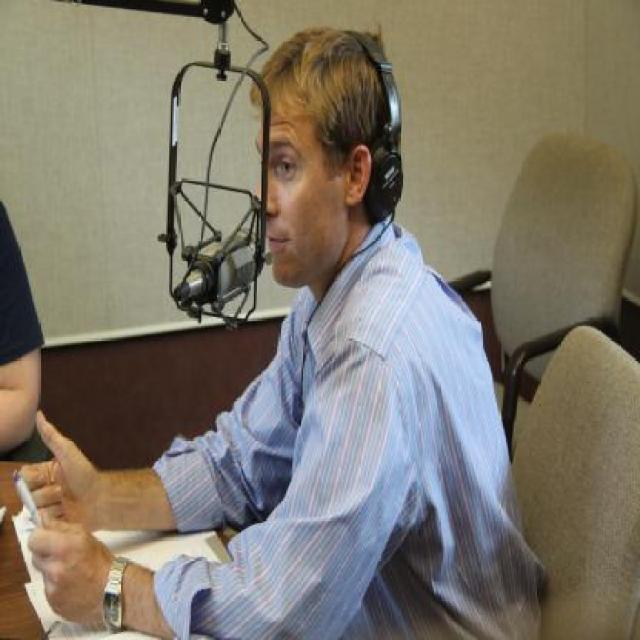earphone: (322, 0, 429, 232)
